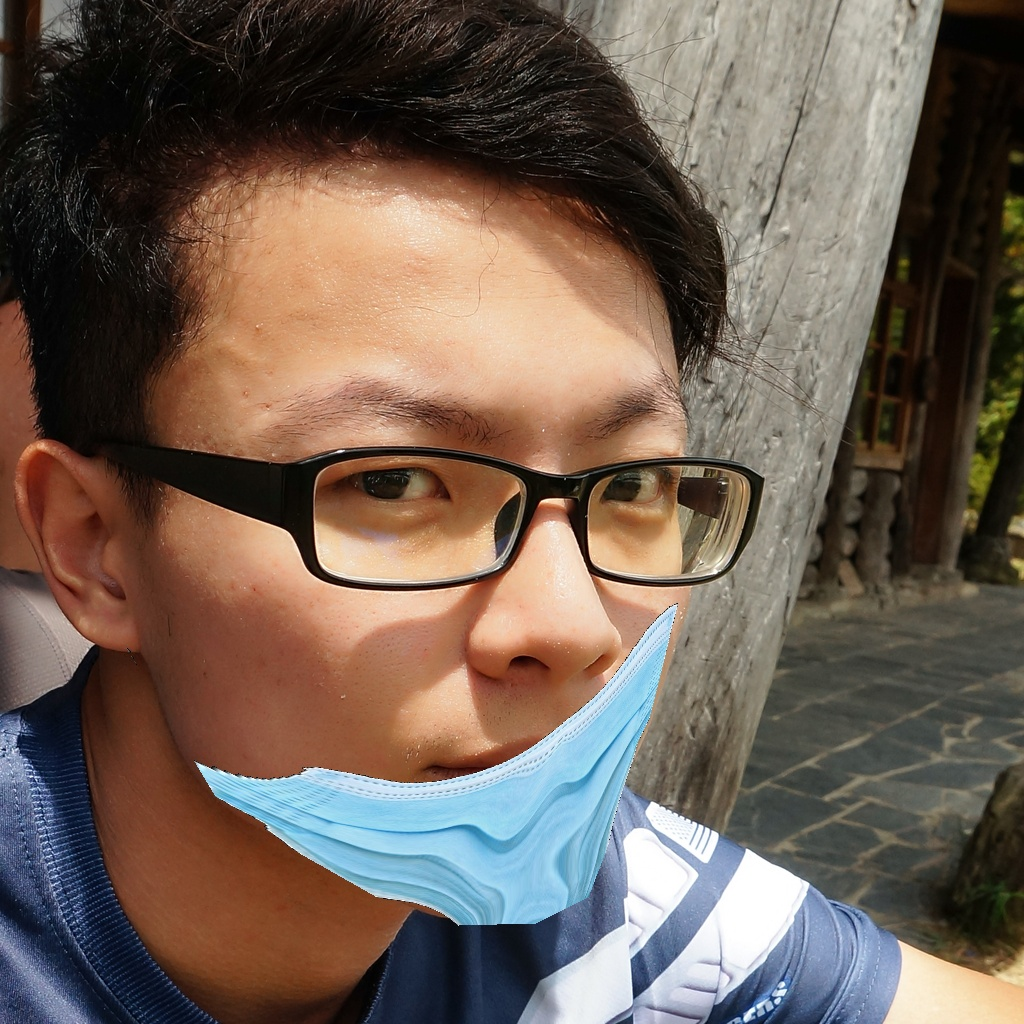mask_weared_incorrect: (207, 351, 716, 924)
